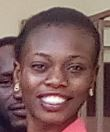without_facemask: (26, 78, 84, 120)
